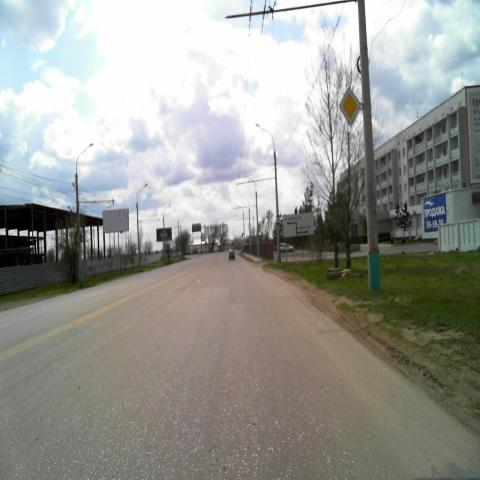2_1: (338, 86, 360, 126)
